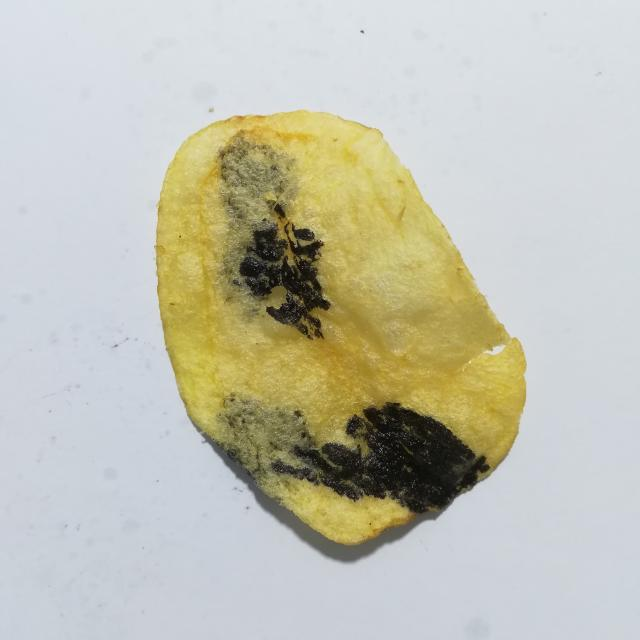chip: (156, 110, 526, 544)
damaged: (271, 402, 489, 513), (239, 222, 330, 339), (274, 204, 286, 219)
semi-damaged: (218, 132, 299, 322), (215, 396, 315, 506)
